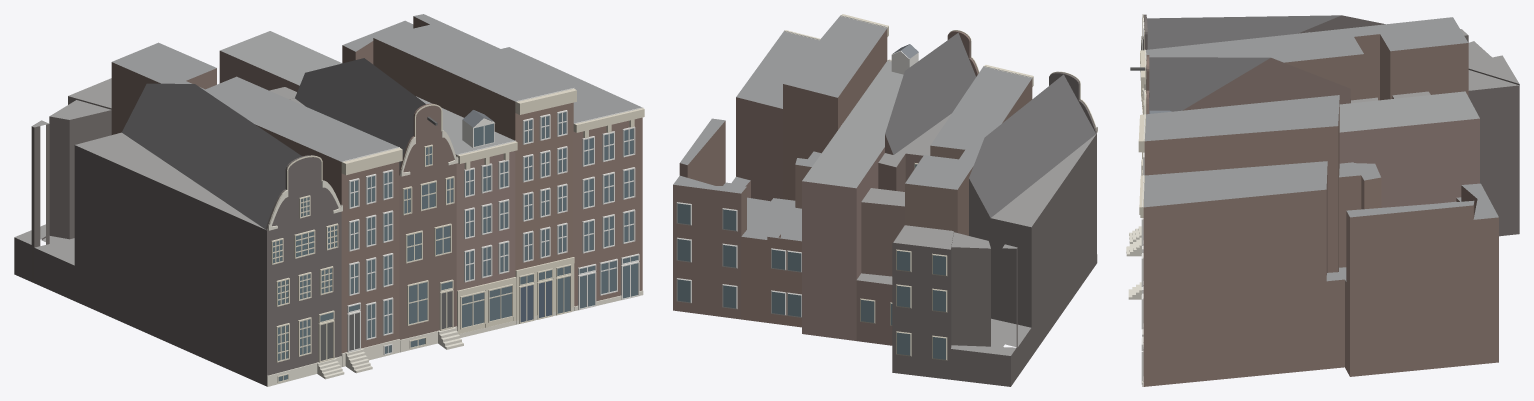
Rendered from chunk-face-wallen-ozv-115-125.glb.
3 renders of one model, left to right at view 1: azimuth 30°, elevation 25°; view 2: azimuth 150°, elevation 25°; view 3: azimuth 270°, elevation 25°, orthographic. The views are drawn at different scales.
Parts seen in each view (by area): view 1: face-wallen-ozv-115-125; view 2: face-wallen-ozv-115-125; view 3: face-wallen-ozv-115-125.
Part boxes in pixels (<box>): face-wallen-ozv-115-125: <box>14,14,644,386</box>; face-wallen-ozv-115-125: <box>673,14,1097,386</box>; face-wallen-ozv-115-125: <box>1126,14,1519,386</box>.
Size of the model in its own units: 33.09 by 16.9 by 26.07.
